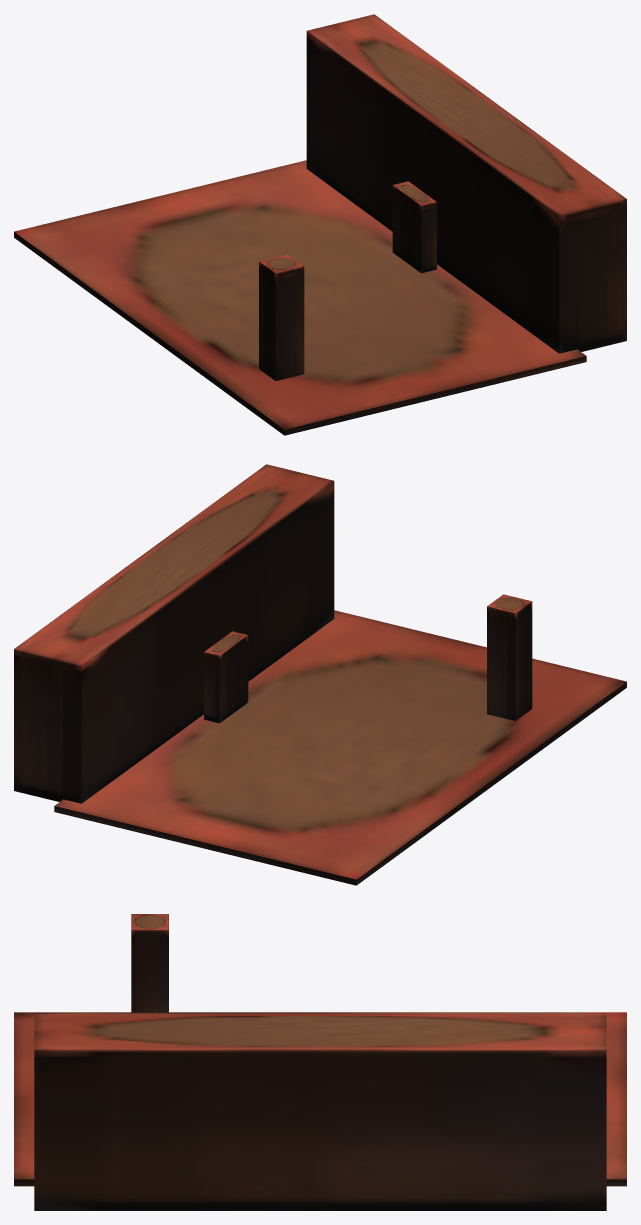
File: environment.obj
3 renders of one model, top to bottom at view 1: azimuth 30°, elevation 25°; view 2: azimuth 150°, elevation 25°; view 3: azimuth 270°, elevation 25°, orthographic. The views are drawn at different scales.
Parts seen in each view (by area): view 1: RND_street_EnvironmentBakedAtlas; view 2: RND_street_EnvironmentBakedAtlas; view 3: RND_street_EnvironmentBakedAtlas.
Part boxes in pixels (x1,y1,x2,y2): RND_street_EnvironmentBakedAtlas: [14, 14, 626, 435]; RND_street_EnvironmentBakedAtlas: [14, 464, 626, 885]; RND_street_EnvironmentBakedAtlas: [14, 914, 626, 1210].
Size of the model in its own units: 6.75 by 2.67 by 9.
Materials: 1 (1 with a texture image).
